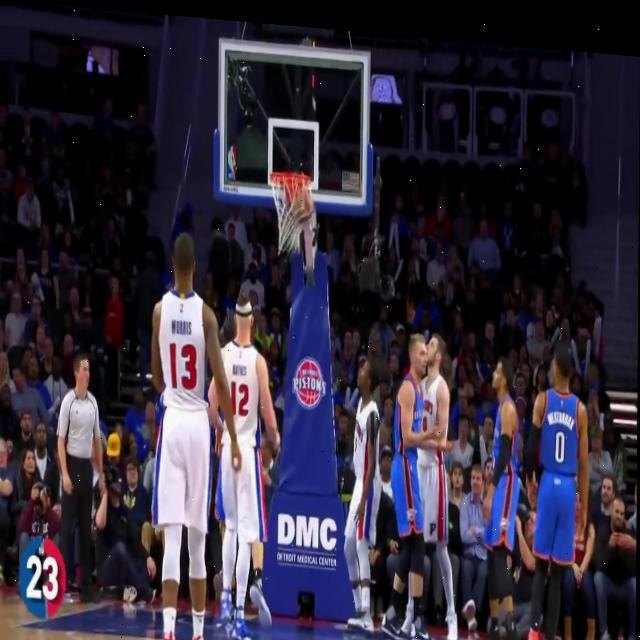basketball: (292, 187, 317, 232)
hoop: (268, 167, 317, 260), (268, 168, 317, 259)
